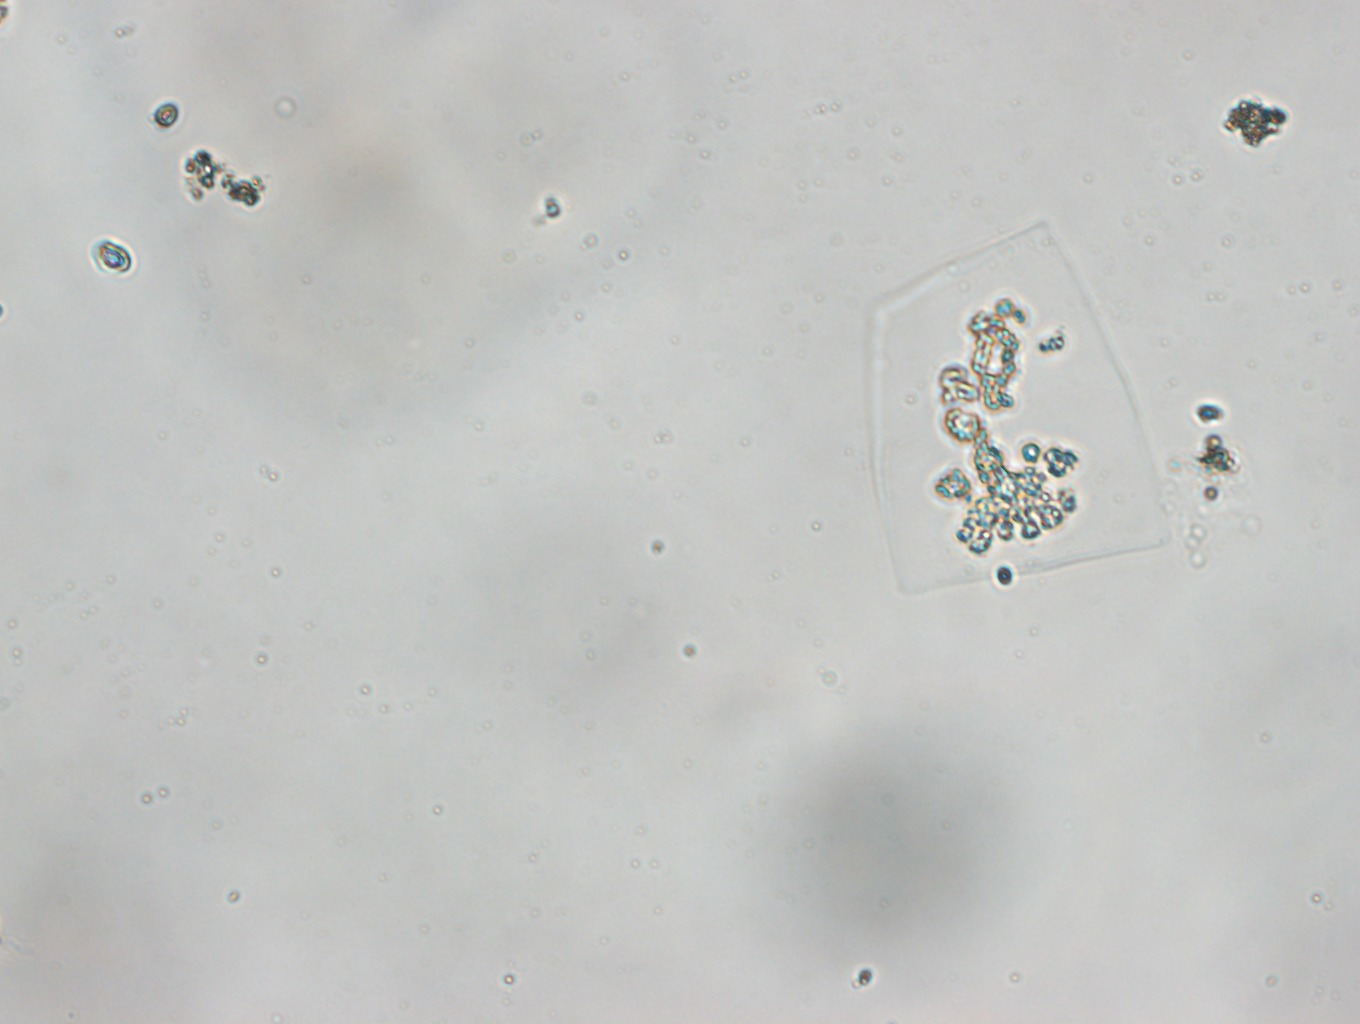helicotheca: (868, 217, 1176, 595)
